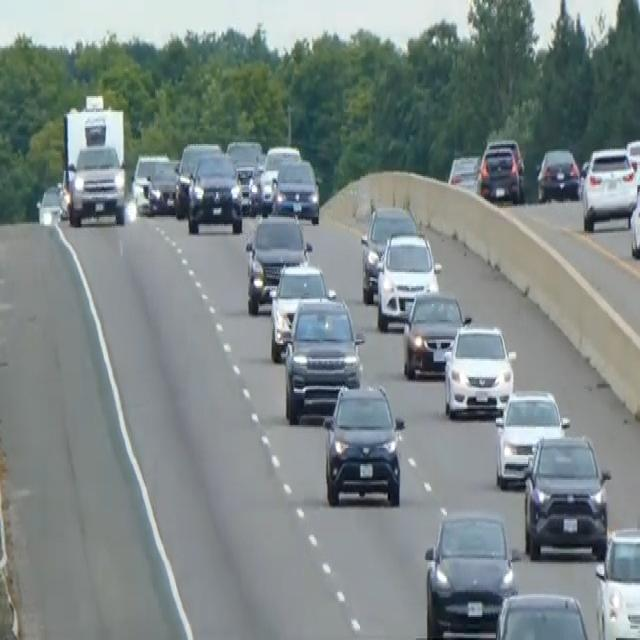car: (423, 507, 518, 638), (522, 430, 611, 560), (282, 294, 364, 422), (493, 387, 569, 489), (443, 322, 516, 419), (268, 259, 335, 361), (375, 229, 441, 331), (401, 286, 470, 379), (359, 201, 417, 302), (594, 524, 639, 638), (581, 144, 637, 231), (492, 590, 592, 638), (186, 151, 243, 235), (173, 140, 221, 218), (271, 156, 320, 224), (477, 138, 524, 204), (257, 142, 301, 212), (225, 137, 263, 208), (536, 144, 580, 203), (131, 150, 170, 212), (145, 158, 179, 214), (447, 151, 480, 192), (35, 183, 62, 226), (628, 166, 639, 260), (625, 137, 639, 172)
jeep: (321, 378, 406, 508), (243, 212, 313, 314)
truck: (60, 94, 128, 226)
